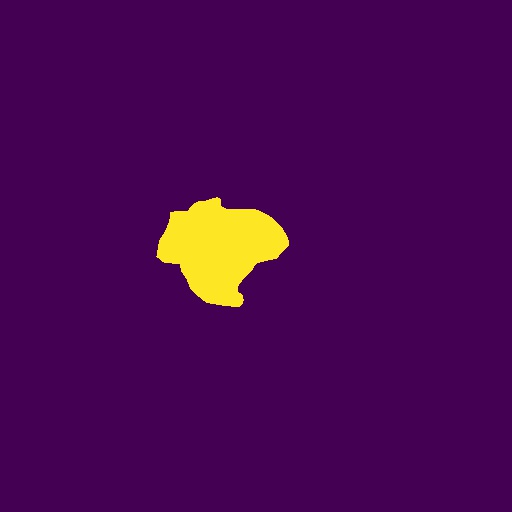Menigiomia_tumour: (156, 197, 289, 307)
